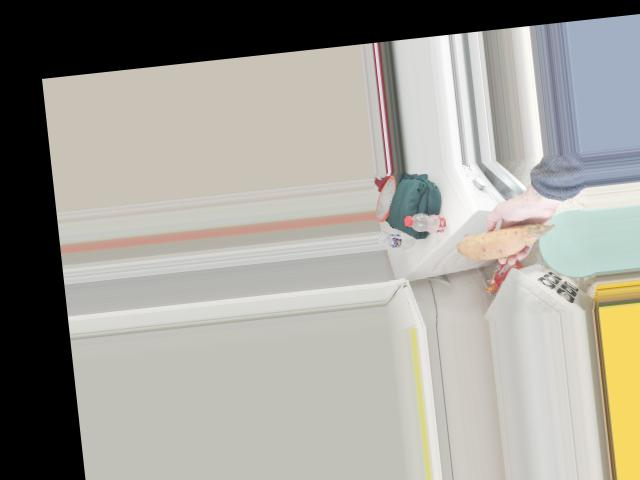sweet_potato: (457, 223, 543, 265)
